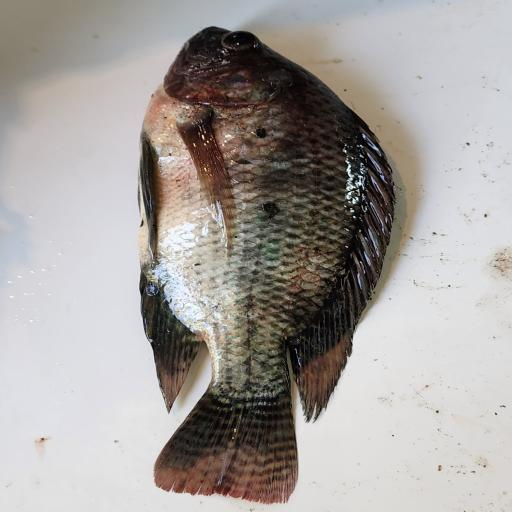Tilapia: (138, 26, 398, 504)
